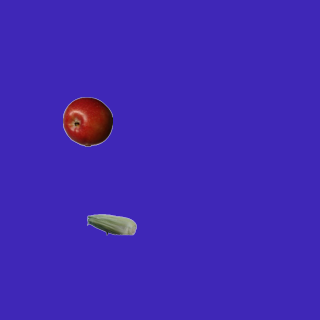Apple Braeburn: (62, 96, 112, 146)
Corn Husk: (86, 199, 136, 249)
